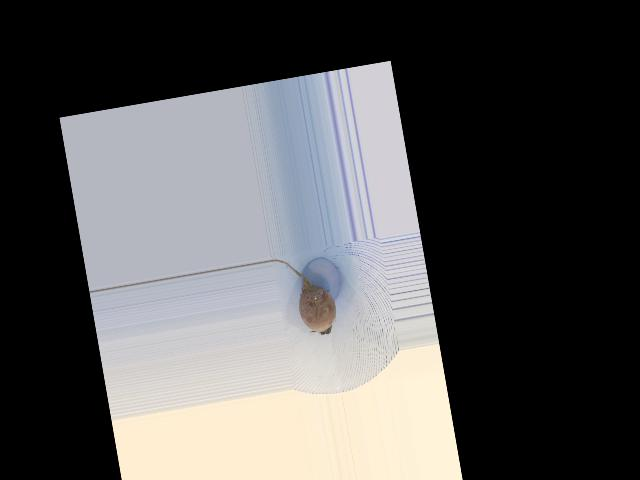beet: (270, 251, 339, 342)
